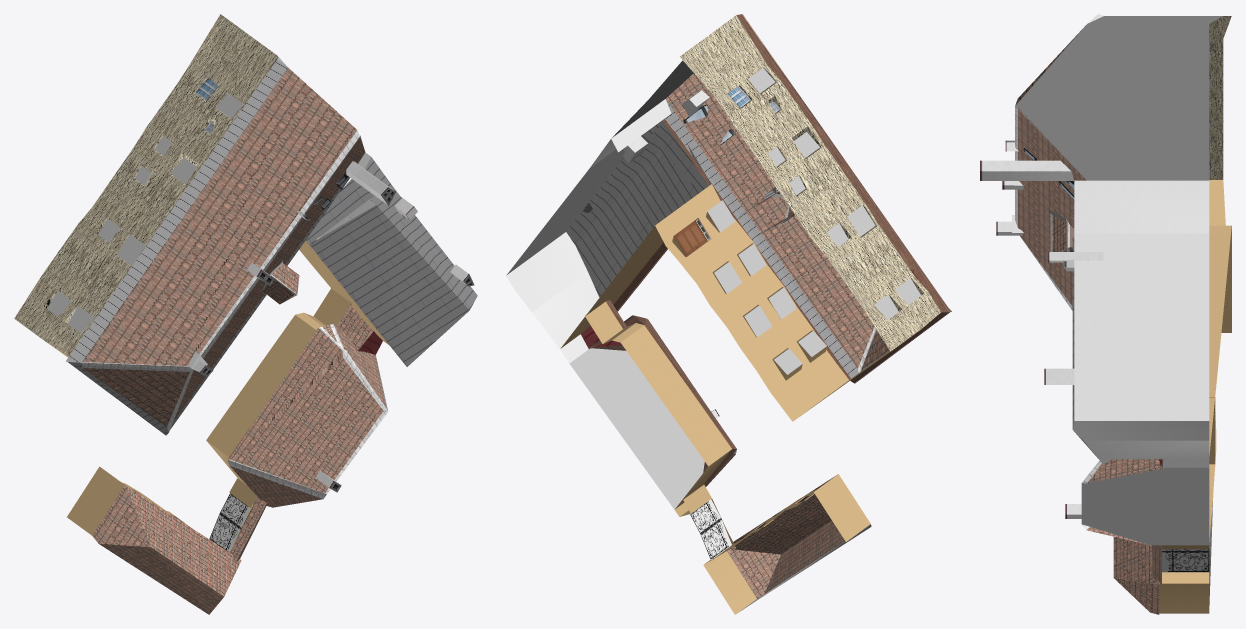
Rendered from Toom-Kooli_23-origo.obj.
The picture shows the model from 3 angles, left to right: view 1: azimuth 30°, elevation 25°; view 2: azimuth 150°, elevation 25°; view 3: azimuth 270°, elevation 25°; orthographic projection. The views are drawn at different scales.
Parts seen in each view (by area): view 1: Toom_Kooli_23; view 2: Toom_Kooli_23; view 3: Toom_Kooli_23.
Boxes of the visible parts, box(x1,y1,x2,y2) form: Toom_Kooli_23: box(14, 14, 477, 614); Toom_Kooli_23: box(506, 14, 951, 614); Toom_Kooli_23: box(980, 14, 1231, 614).
Bounding box in the file's own units: 34.38 × 46 × 16.85.
